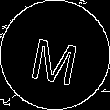M_N: (27, 26, 83, 84)
